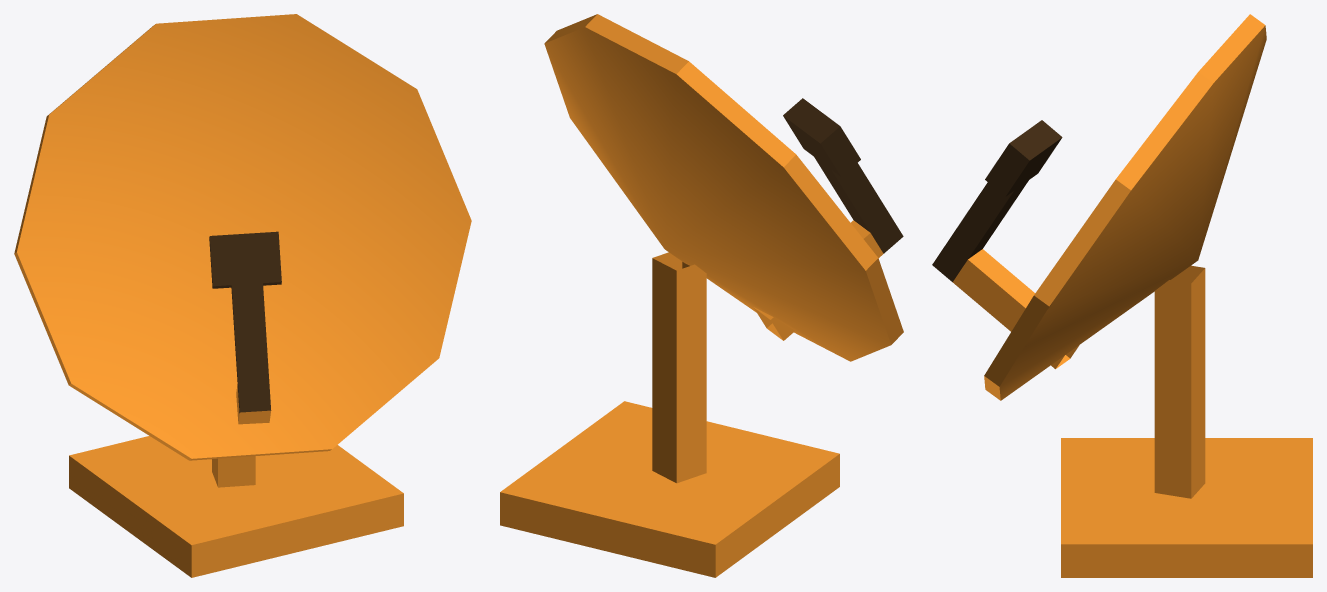
Rendered from Satellite_T5.fbx.
3 renders of one model, left to right at view 1: azimuth 30°, elevation 25°; view 2: azimuth 150°, elevation 25°; view 3: azimuth 270°, elevation 25°, orthographic. The views are drawn at different scales.
Parts seen in each view (by area): view 1: Satelite_dish1; view 2: Satelite_dish1; view 3: Satelite_dish1.
Boxes of the visible parts, x1,y1,x2,y2 form: Satelite_dish1: (14,14,471,577); Satelite_dish1: (500,14,903,577); Satelite_dish1: (932,14,1312,577).
Size of the model in its own units: 4.29 by 5.13 by 3.64.
